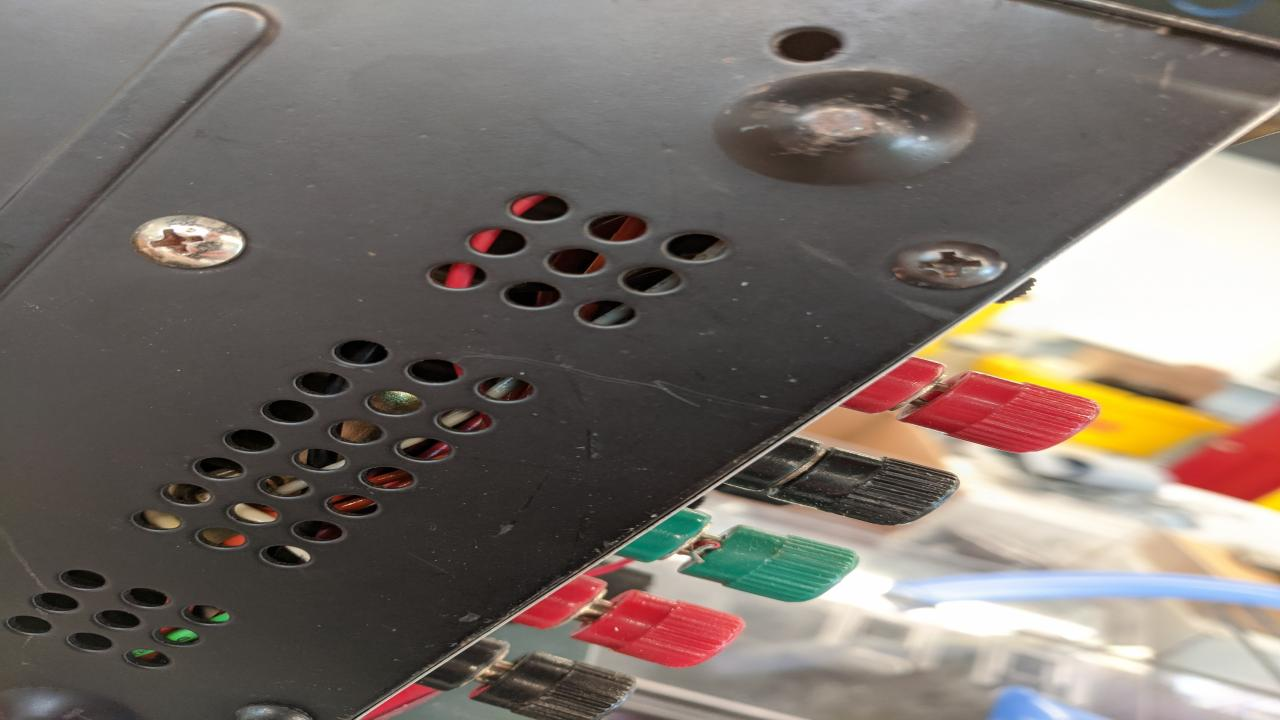CRS: (132, 212, 258, 268), (889, 241, 996, 288)
